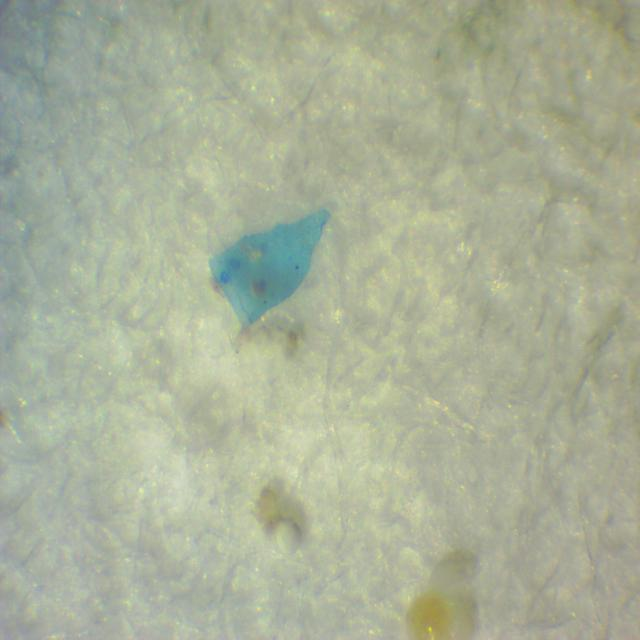microplastic: (204, 223, 329, 318)
